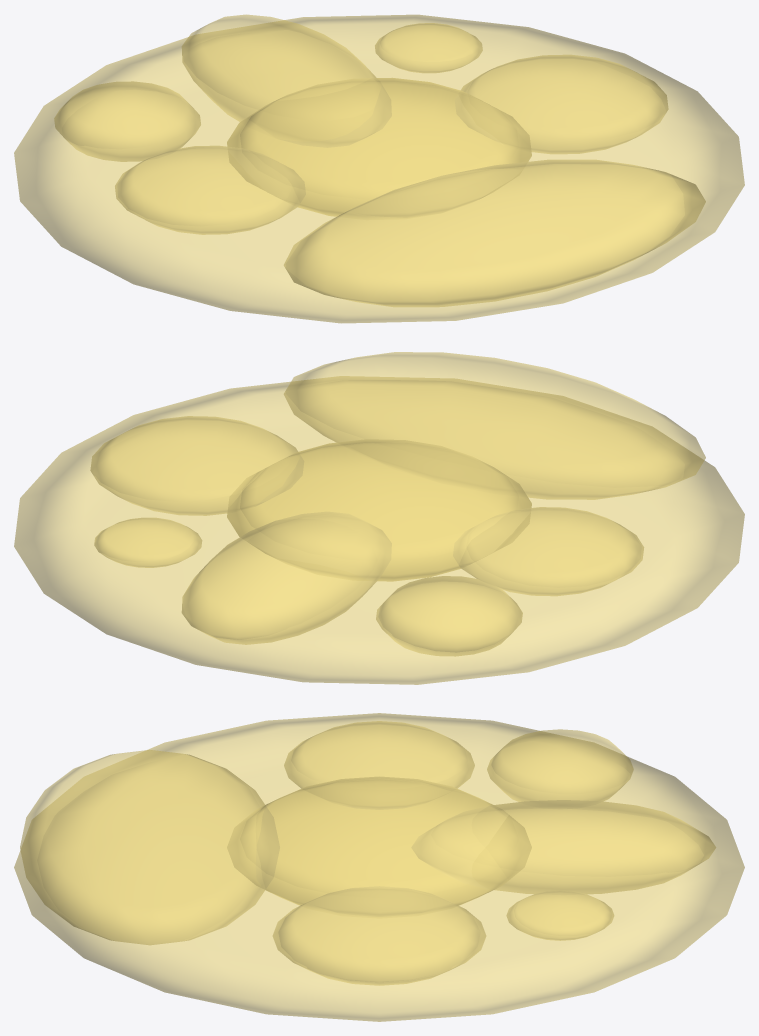
File: glueOnGround.fbx
The picture shows the model from 3 angles, top to bottom: view 1: azimuth 30°, elevation 25°; view 2: azimuth 150°, elevation 25°; view 3: azimuth 270°, elevation 25°; orthographic projection.
Visible parts, largest first — view 1: pSphere12; view 2: pSphere12; view 3: pSphere12.
Part boxes in pixels (bbox=[...]): pSphere12: bbox=[14, 14, 744, 323]; pSphere12: bbox=[14, 352, 744, 684]; pSphere12: bbox=[14, 713, 744, 1021].
Size of the model in its own units: 12.56 by 1.65 by 12.56.
Materials: 2 (2 with a texture image).
